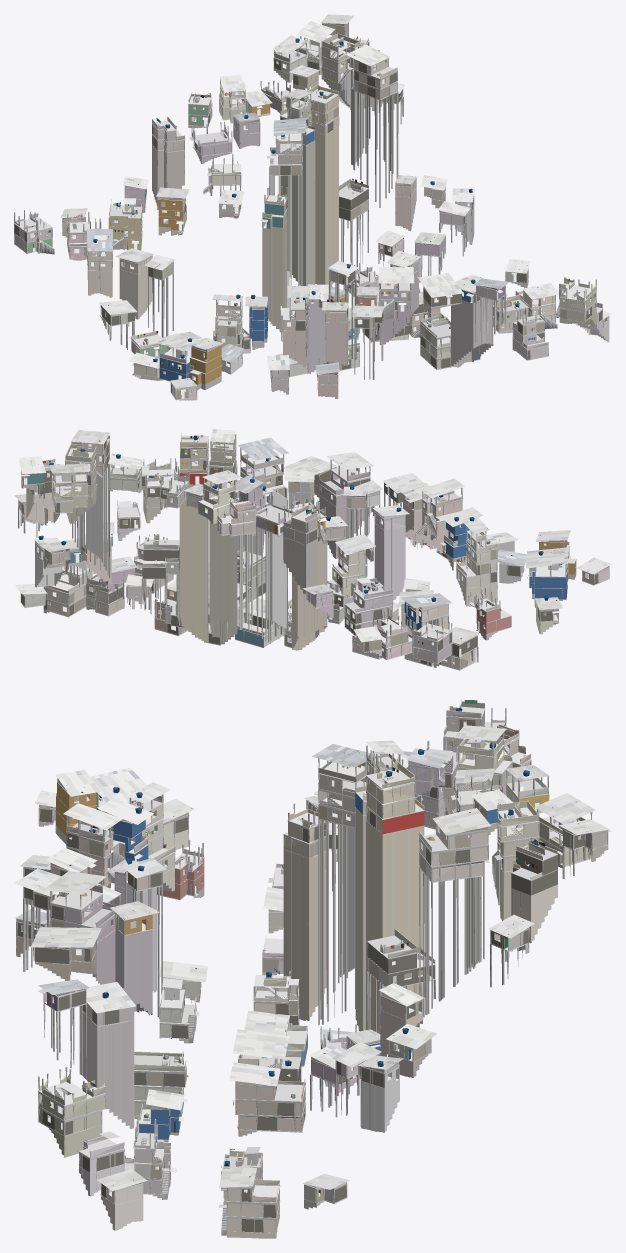
3 views of the same model, one above another, from view 1: azimuth 30°, elevation 25°; view 2: azimuth 150°, elevation 25°; view 3: azimuth 270°, elevation 25° (orthographic). The views are drawn at different scales.
Visible parts, largest first — view 1: T_27_28; view 2: T_27_28; view 3: T_27_28.
Part boxes in pixels (x1,y1,x2,y2): T_27_28: [14, 14, 611, 400]; T_27_28: [14, 429, 611, 670]; T_27_28: [14, 699, 611, 1238].
Size of the model in its own units: 131 by 67.85 by 102.
